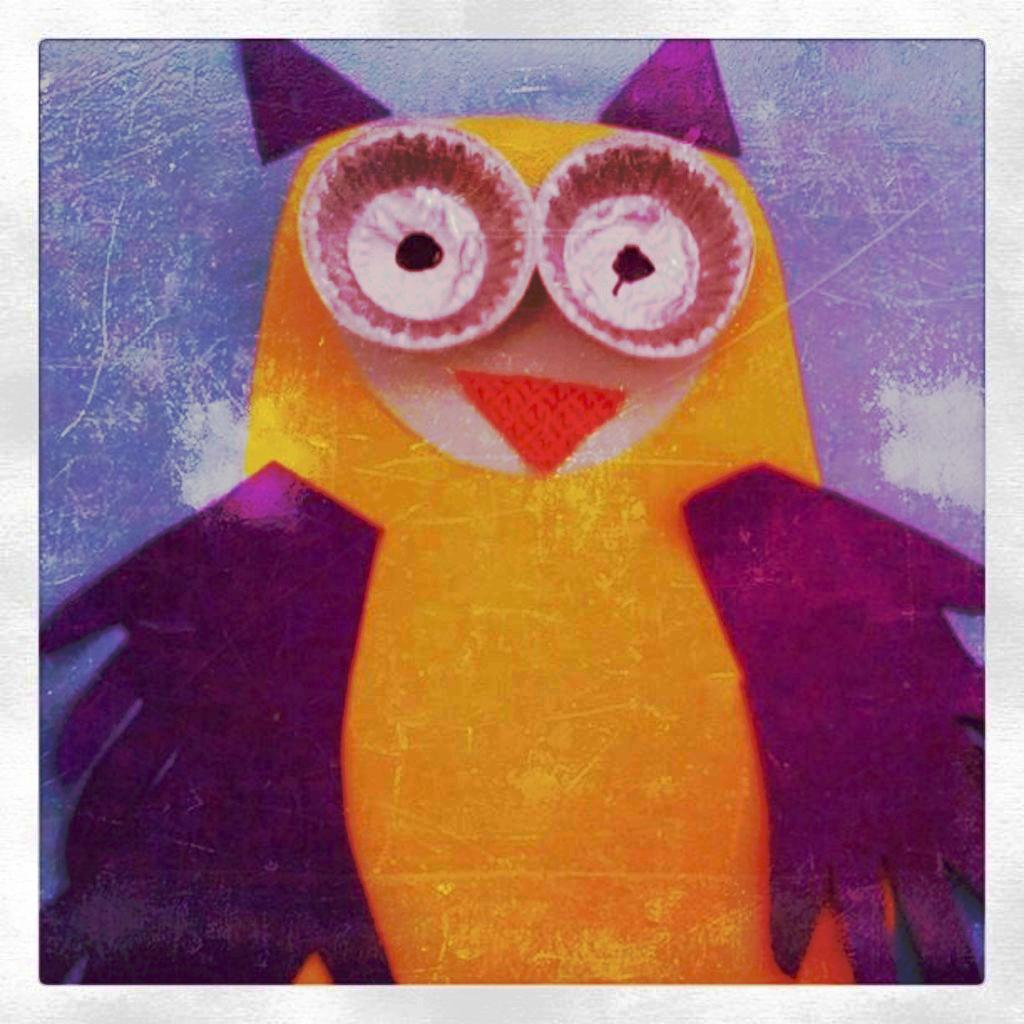Owl: (35, 38, 989, 978)
